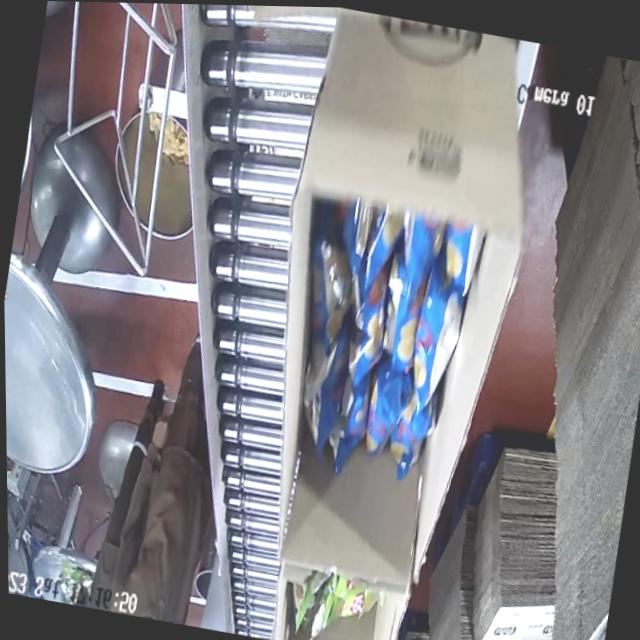PAPRIKA: (288, 191, 492, 497)
